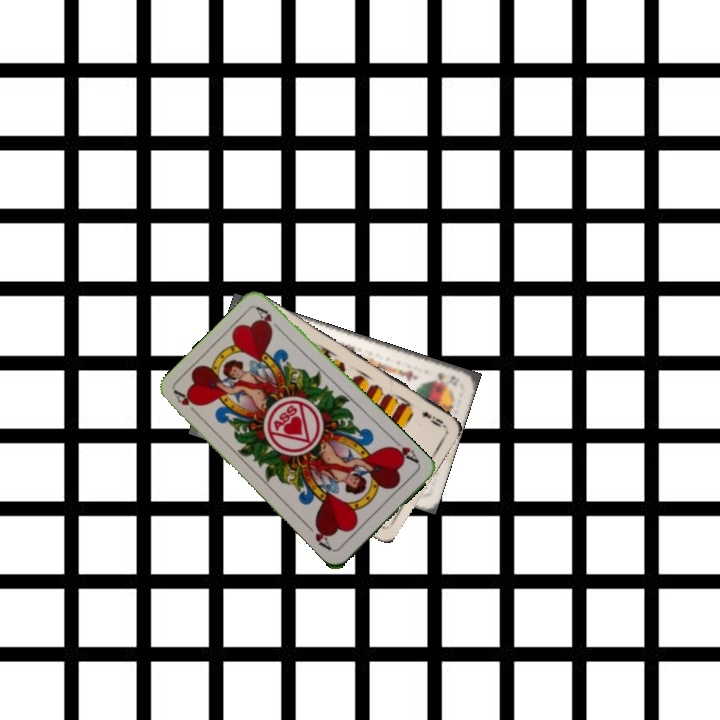E9: (417, 407, 447, 430)
HA: (386, 435, 422, 466), (170, 386, 203, 419)
SK: (433, 368, 462, 389)
